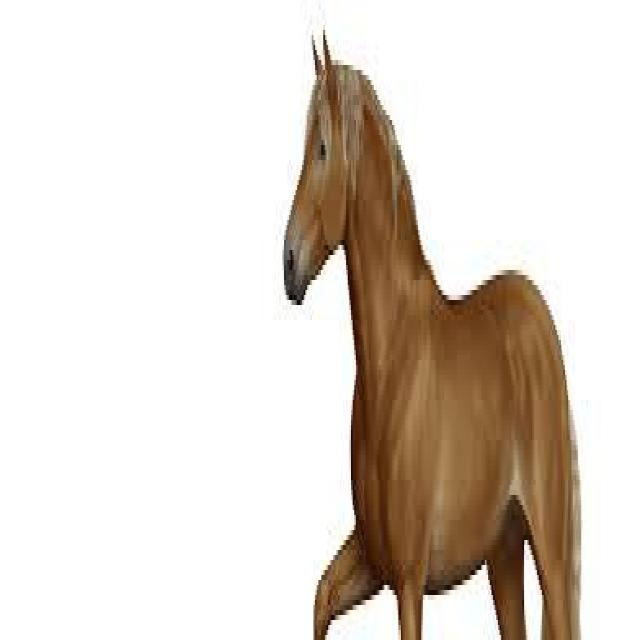Horse: (281, 27, 583, 640)
